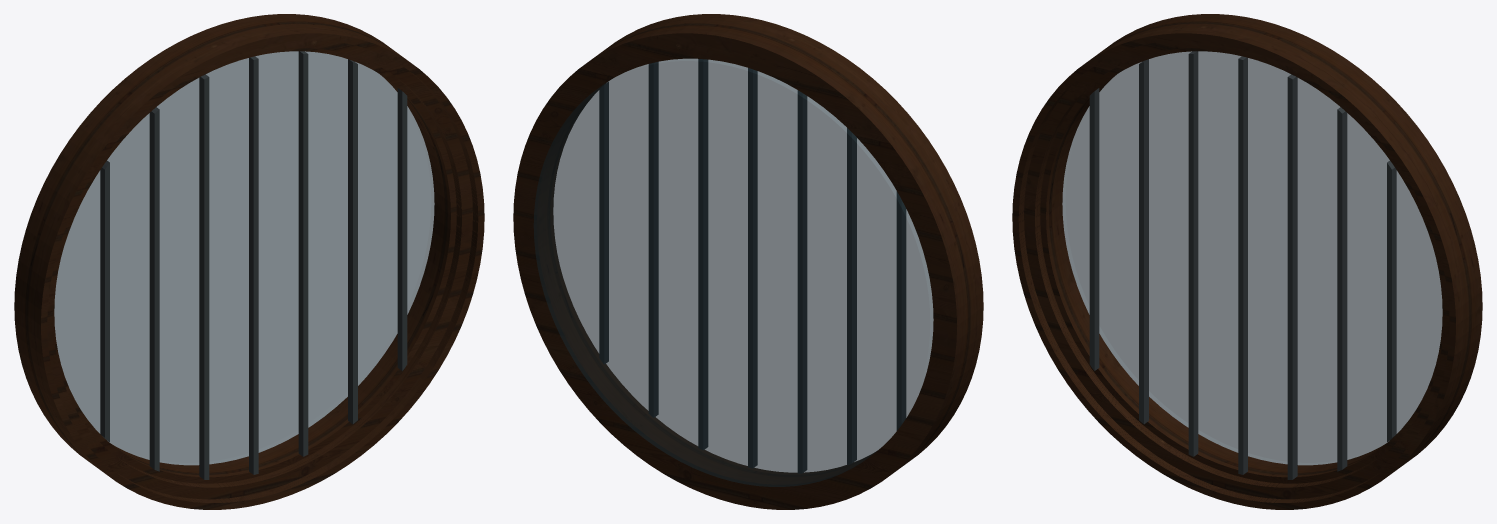
File: madera_circle_con_reja.glb
The picture shows the model from 3 angles, left to right: view 1: azimuth 30°, elevation 25°; view 2: azimuth 150°, elevation 25°; view 3: azimuth 330°, elevation 25°; orthographic projection.
Visible parts, largest first — view 1: window_glass#0001, window_grille#0001, window_reveal#0001, window_profile#0020, window_profile#0009, window_profile#0010, window_profile#0017, window_profile#0001, window_profile#0011, window_profile#0019, window_profile#0018, window_profile#0012 (+11 smaller); view 2: window_glass#0001, window_reveal#0001, window_grille#0001, window_profile#0020, window_profile#0001; view 3: window_glass#0001, window_grille#0001, window_reveal#0001, window_profile#0020, window_profile#0009, window_profile#0010, window_profile#0017, window_profile#0011, window_profile#0001, window_profile#0019, window_profile#0018, window_profile#0012 (+11 smaller).
Boxes of the visible parts, x1,y1,x2,y2 form: window_glass#0001: [54, 51, 434, 465]; window_grille#0001: [100, 51, 407, 479]; window_reveal#0001: [14, 14, 448, 475]; window_profile#0020: [27, 23, 484, 509]; window_profile#0009: [50, 45, 464, 490]; window_profile#0010: [48, 42, 467, 493]; window_profile#0017: [45, 38, 479, 504]; window_profile#0001: [53, 49, 452, 478]; window_profile#0011: [47, 40, 470, 496]; window_profile#0019: [42, 35, 482, 508]; window_profile#0018: [44, 36, 481, 506]; window_profile#0012: [63, 41, 472, 499]; window_glass#0001: [533, 58, 933, 486]; window_reveal#0001: [513, 22, 971, 509]; window_grille#0001: [599, 59, 905, 473]; window_profile#0020: [605, 14, 983, 461]; window_profile#0001: [550, 95, 876, 474]; window_glass#0001: [1062, 51, 1442, 465]; window_grille#0001: [1089, 51, 1396, 479]; window_reveal#0001: [1047, 14, 1482, 475]; window_profile#0020: [1012, 23, 1469, 509]; window_profile#0009: [1032, 45, 1446, 490]; window_profile#0010: [1029, 42, 1448, 493]; window_profile#0017: [1017, 38, 1451, 504]; window_profile#0011: [1026, 40, 1449, 496]; window_profile#0001: [1044, 49, 1443, 478]; window_profile#0019: [1014, 35, 1454, 508]; window_profile#0018: [1015, 36, 1452, 506]; window_profile#0012: [1024, 41, 1433, 499].
Bounding box in the file's own units: 1.6 × 1.6 × 0.1855.
3 materials, 1 textured.
